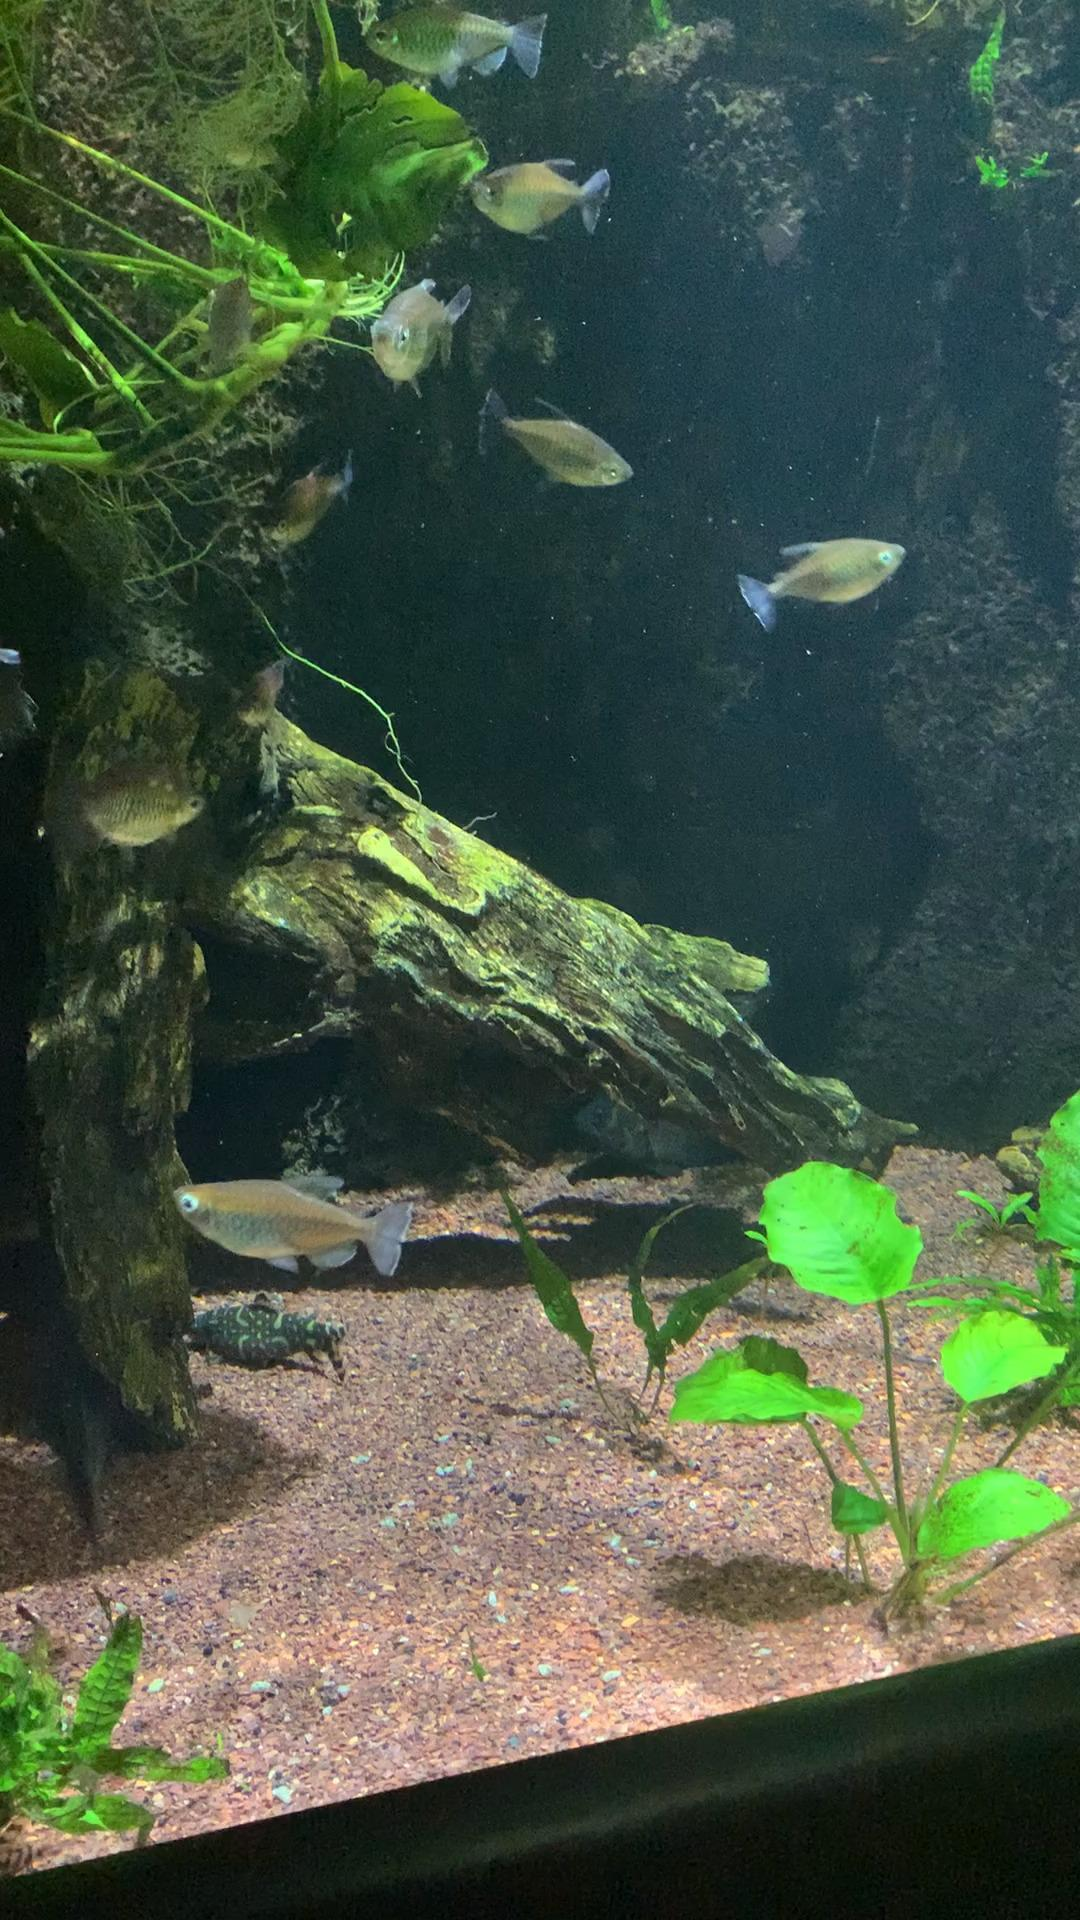fish: (165, 1174, 411, 1288), (347, 0, 555, 96), (727, 535, 914, 640), (44, 756, 218, 864), (481, 398, 641, 502), (364, 280, 479, 396), (183, 1294, 351, 1371), (475, 167, 615, 243), (262, 447, 359, 547)
